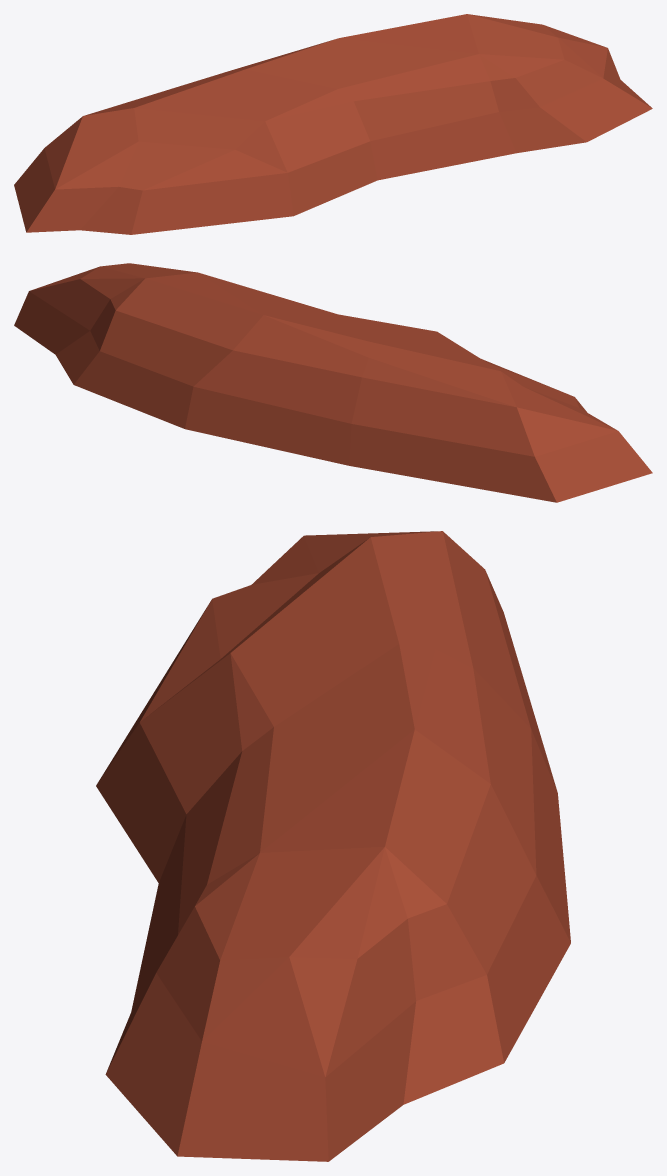
File: SandWall006.fbx
The picture shows the model from 3 angles, top to bottom: view 1: azimuth 30°, elevation 25°; view 2: azimuth 150°, elevation 25°; view 3: azimuth 270°, elevation 25°; orthographic projection. The views are drawn at different scales.
Parts seen in each view (by area): view 1: Cylinder006; view 2: Cylinder006; view 3: Cylinder006.
Boxes of the visible parts, x1,y1,x2,y2 form: Cylinder006: [14, 14, 652, 234]; Cylinder006: [14, 263, 652, 502]; Cylinder006: [96, 531, 570, 1161].
Bounding box in the file's own units: 1268 × 180 × 433.
